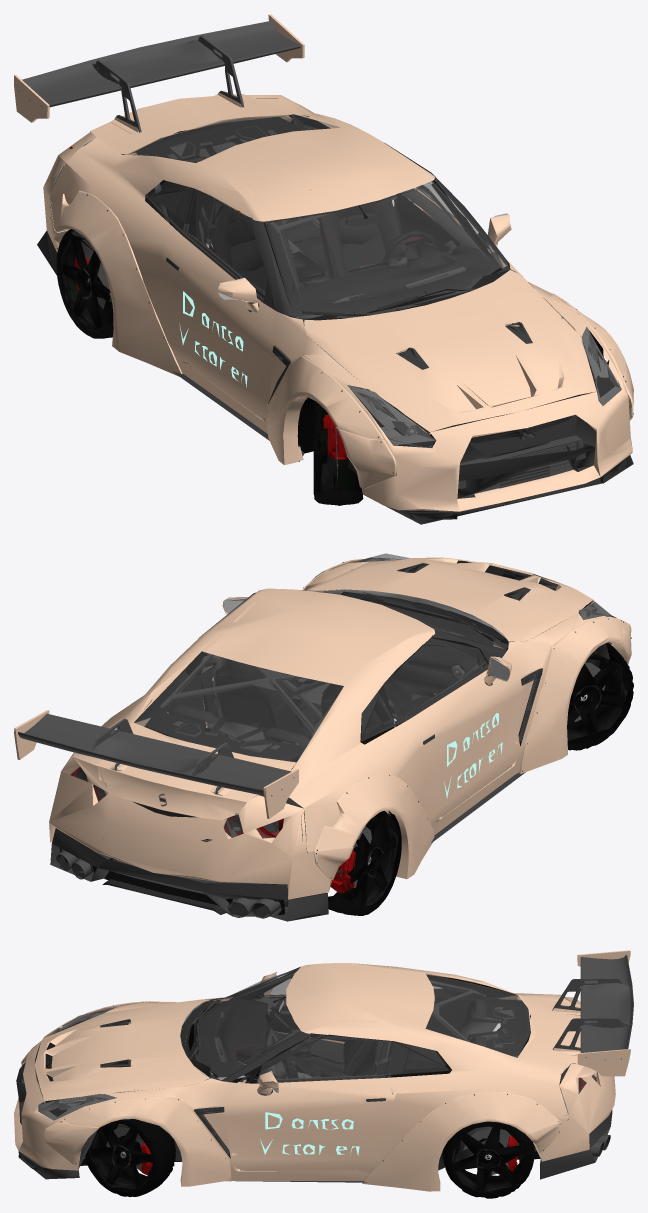
File: nissan.glb
3 renders of one model, top to bottom at view 1: azimuth 30°, elevation 25°; view 2: azimuth 150°, elevation 25°; view 3: azimuth 270°, elevation 25°, orthographic. The views are drawn at different scales.
Visible parts, largest first — view 1: LOD0; view 2: LOD0; view 3: LOD0.
Boxes of the visible parts, box(x1,y1,x2,y2) form: LOD0: box(14, 14, 633, 524); LOD0: box(14, 553, 633, 921); LOD0: box(14, 950, 633, 1198).
Size of what is drawn, in the model's own units: 2.2 by 1.31 by 4.69.
Materials: 43 (19 with a texture image).
